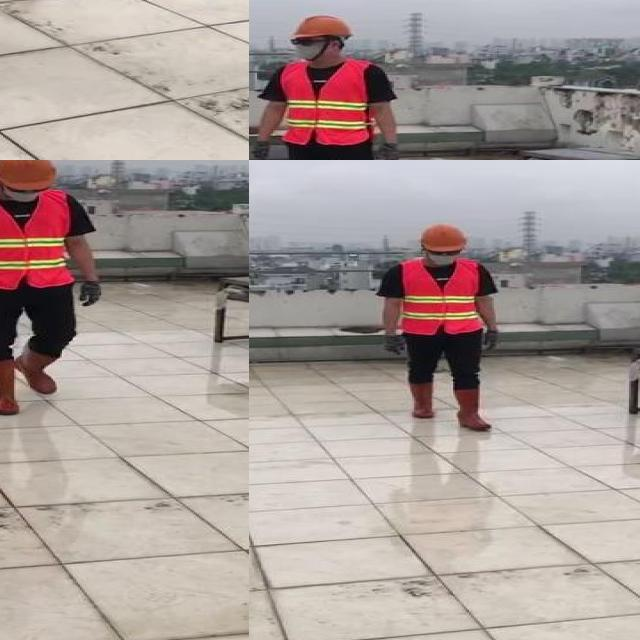boots: (16, 342, 56, 395), (453, 386, 490, 430), (0, 357, 21, 415), (405, 381, 435, 419)
face_mask: (285, 31, 330, 62), (425, 248, 461, 266)
glasses: (281, 32, 318, 49), (423, 247, 462, 257)
hand_glove: (76, 282, 101, 308), (382, 336, 408, 356), (249, 140, 271, 160), (482, 326, 498, 353), (378, 143, 401, 160)
head_helmet: (0, 160, 57, 192), (292, 14, 354, 43), (418, 222, 468, 252)
person: (0, 160, 109, 418), (378, 223, 504, 434), (249, 9, 411, 160)
vest: (284, 60, 371, 147), (0, 191, 72, 289), (398, 259, 481, 335)
